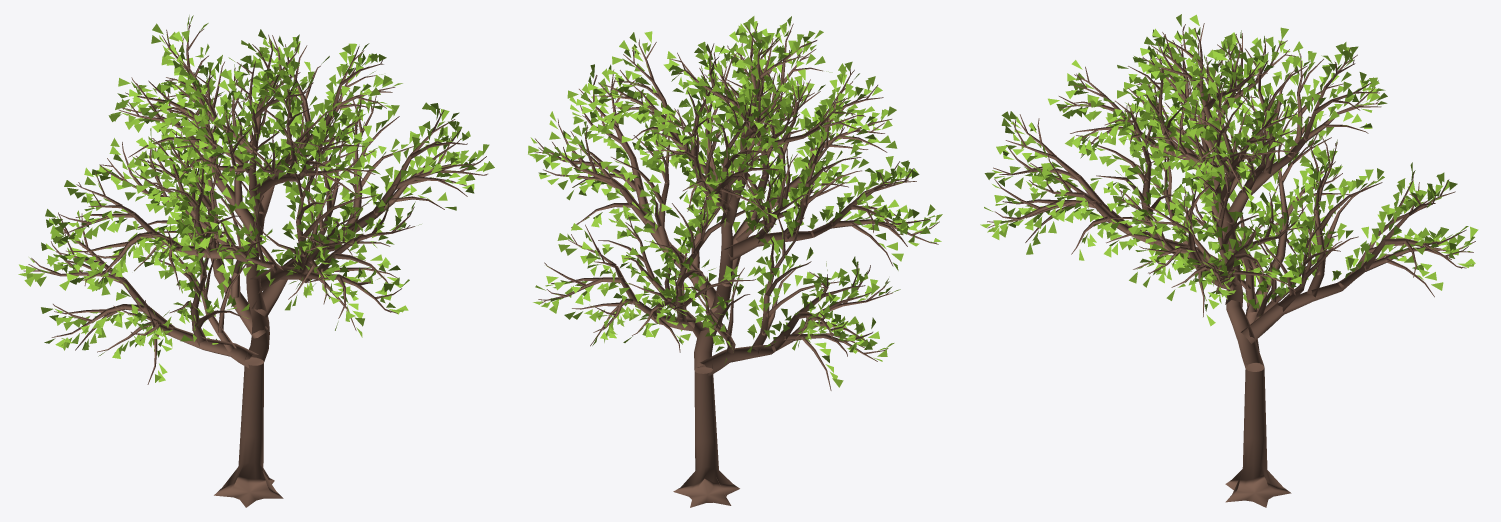
The model's file is Tree.gltf.
3 views of the same model, side by side, from view 1: azimuth 30°, elevation 25°; view 2: azimuth 150°, elevation 25°; view 3: azimuth 270°, elevation 25° (orthographic). The views are drawn at different scales.
Visible parts, largest first — view 1: arvore6; view 2: arvore6; view 3: arvore6.
Part boxes in pixels (x1=…): arvore6: x1=18, y1=15, x2=494, y2=507; arvore6: x1=528, y1=16, x2=942, y2=507; arvore6: x1=980, y1=14, x2=1478, y2=507.
Size of the model in its own units: 5.79 by 6.19 by 6.16.
